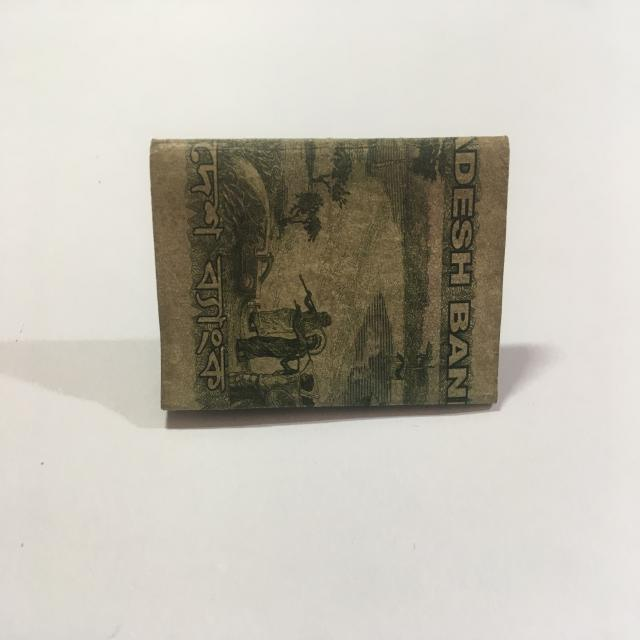Taka: (142, 124, 502, 423)
